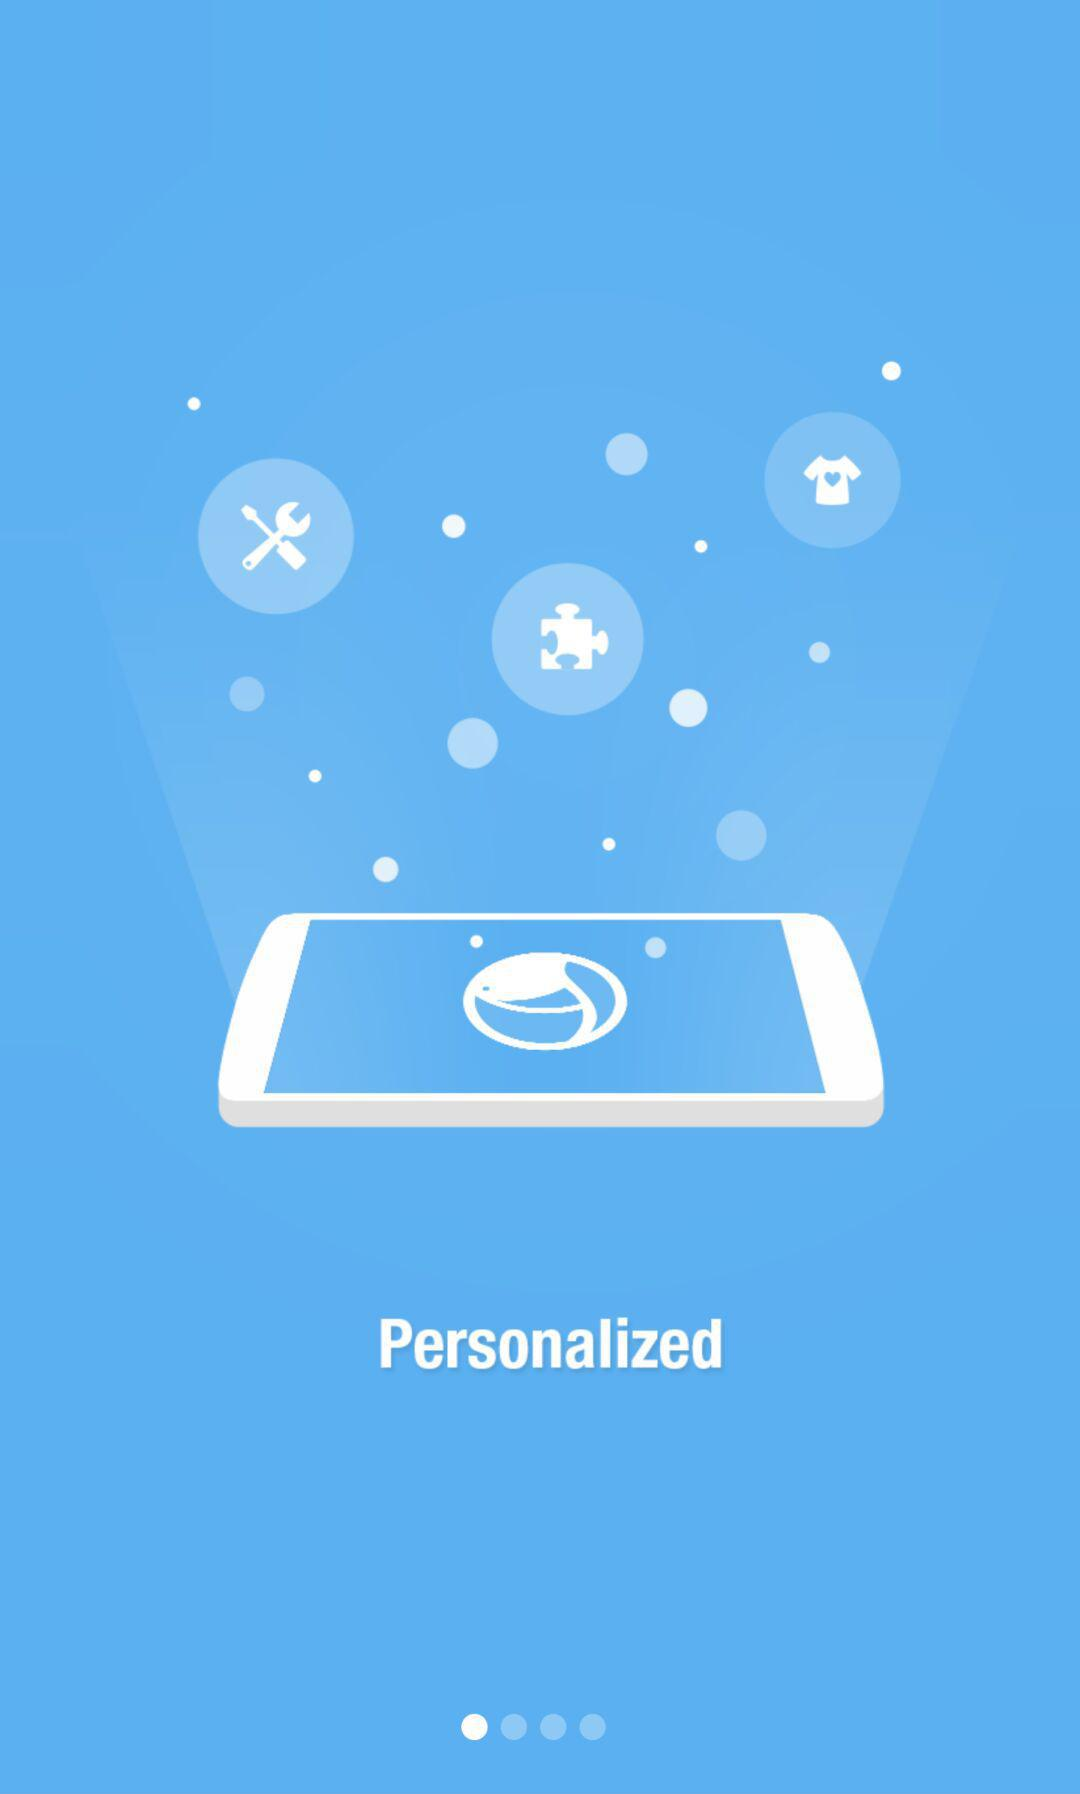Image: (117, 360, 984, 1132)
PageIndicator: (459, 1711, 609, 1743)
Text: (378, 1317, 724, 1371)
